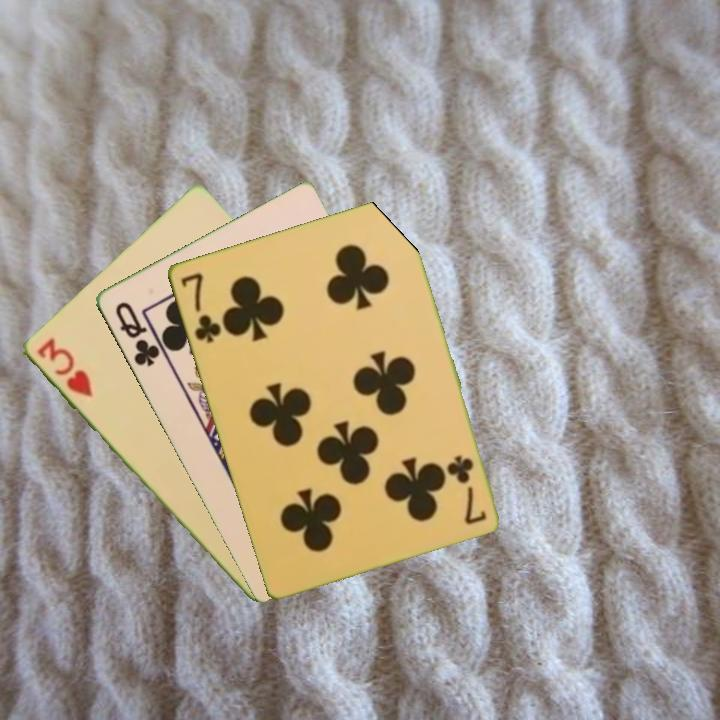3h: (33, 334, 95, 401)
7c: (176, 268, 224, 346), (445, 451, 489, 527)
Qc: (111, 297, 162, 370)
